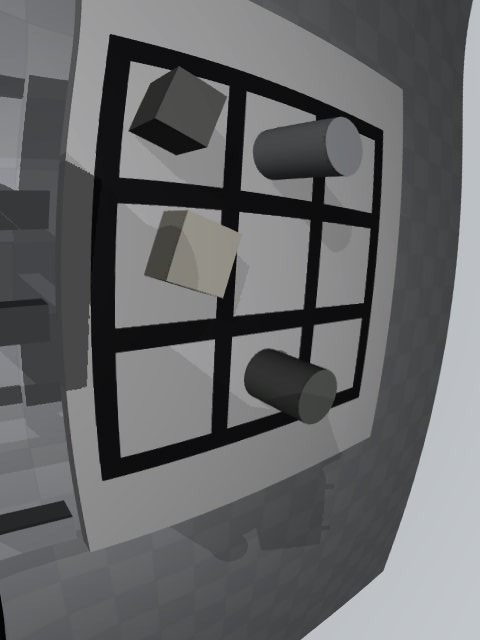can: (253, 116, 363, 180)
cube: (128, 66, 227, 155)
cylinder: (244, 348, 337, 424)
foam: (144, 210, 242, 299)
